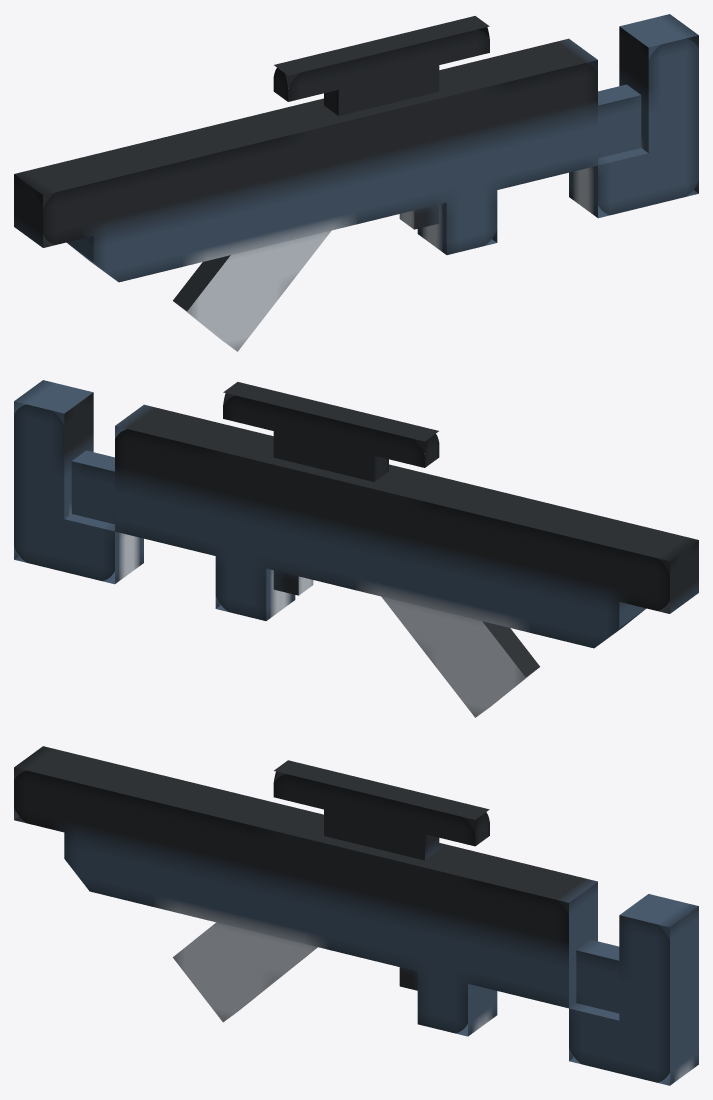
Rendered from gun-1.obj.
3 views of the same model, one above another, from view 1: azimuth 30°, elevation 25°; view 2: azimuth 150°, elevation 25°; view 3: azimuth 330°, elevation 25° (orthographic).
Size of the model in its own units: 13 by 5 by 1.
1 material, 1 textured.
